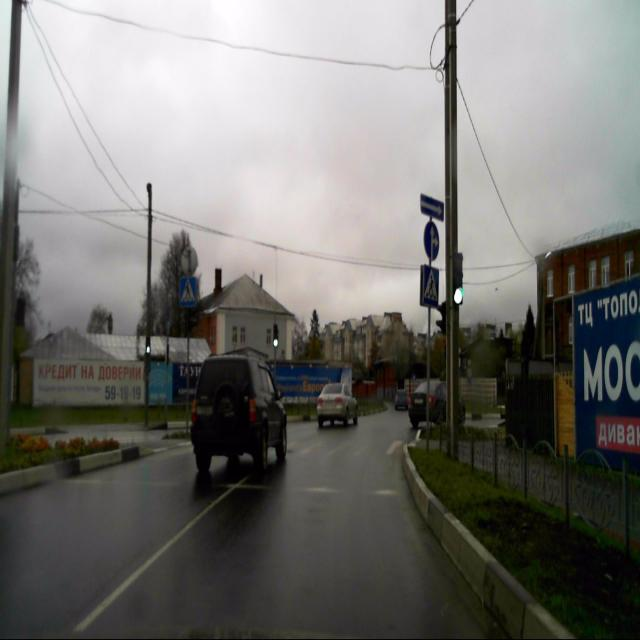object: (426, 308, 432, 453)
road sign: (422, 265, 438, 308), (420, 194, 444, 221), (179, 275, 198, 307)
